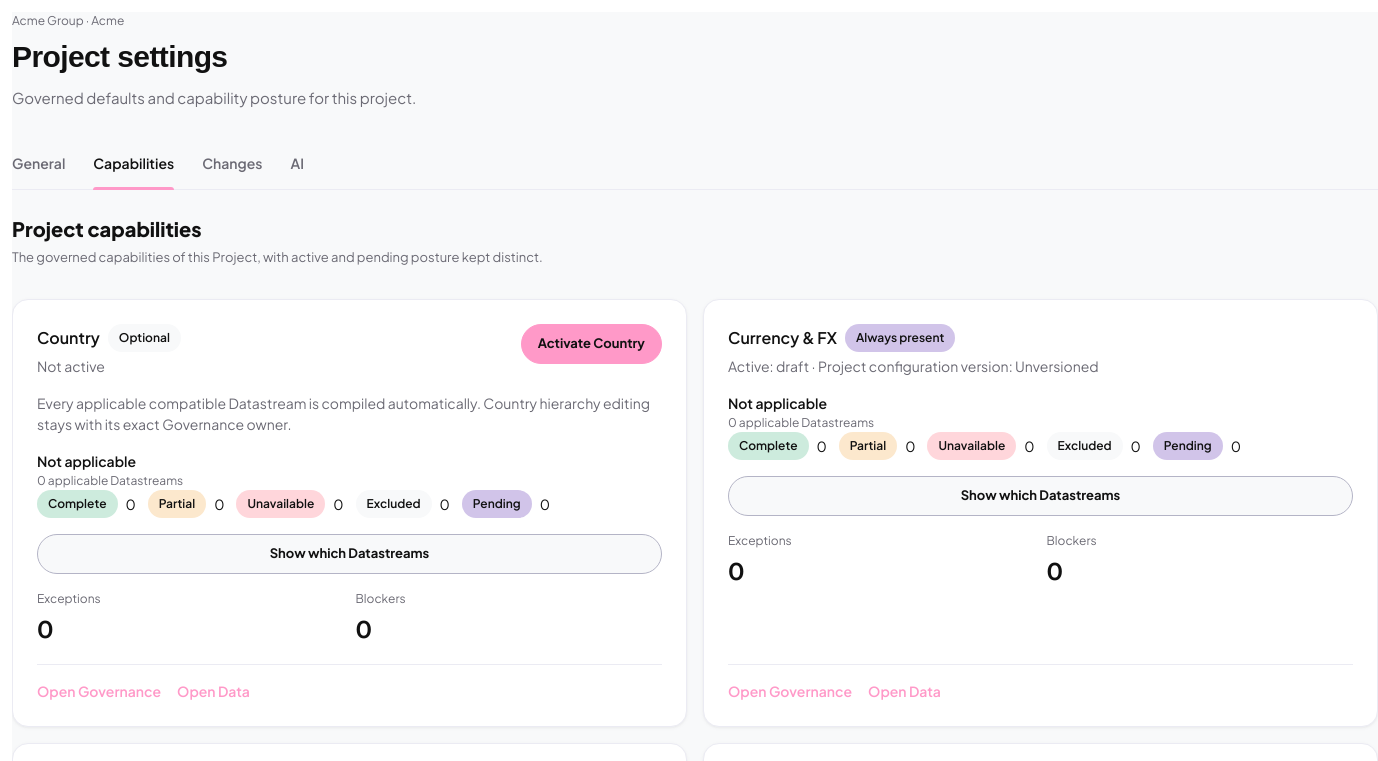
prepares a capability change through the generic Change Set endpoints
Click the button "Activate Country": point(591, 344) top-left (521, 324), bottom-right (662, 364)
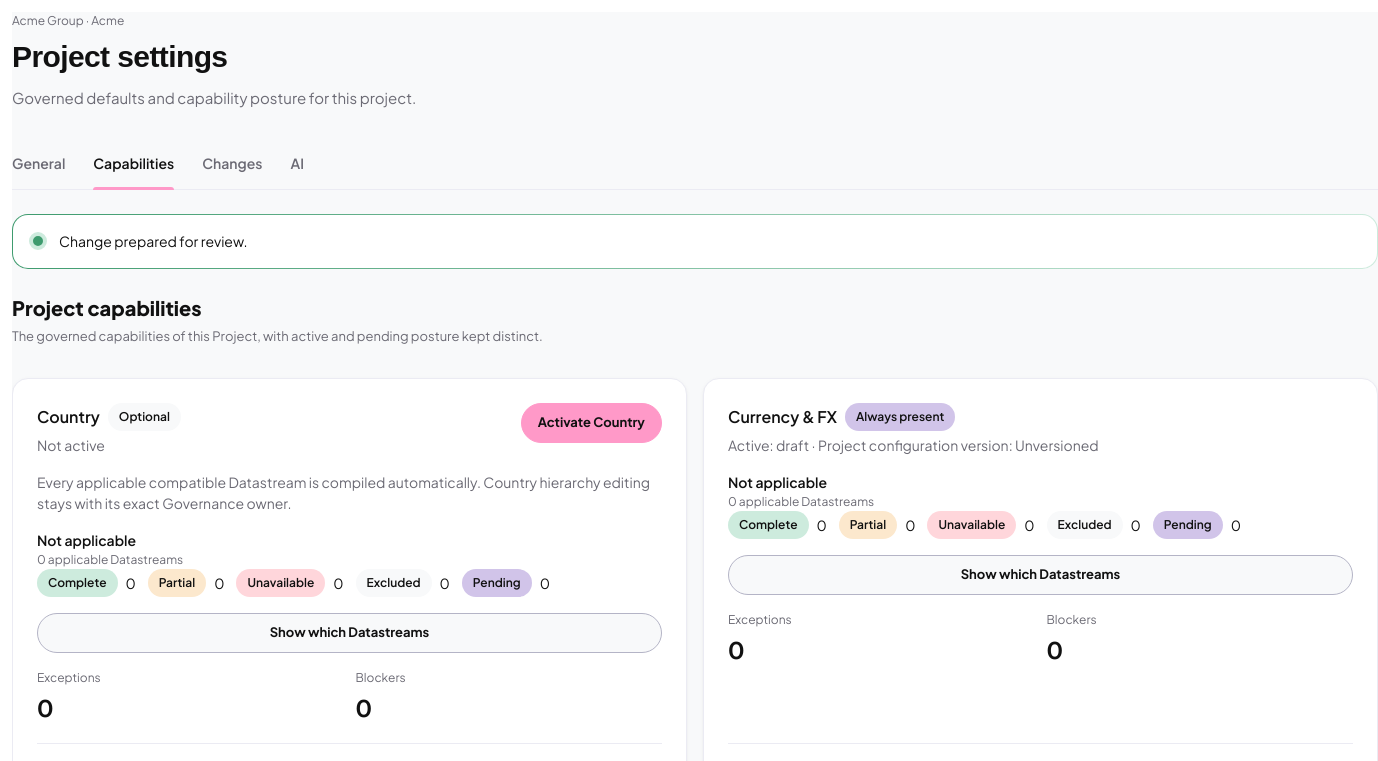
Now the text "Change prepared for review." is shown, box top-left (59, 232), bottom-right (248, 250)
